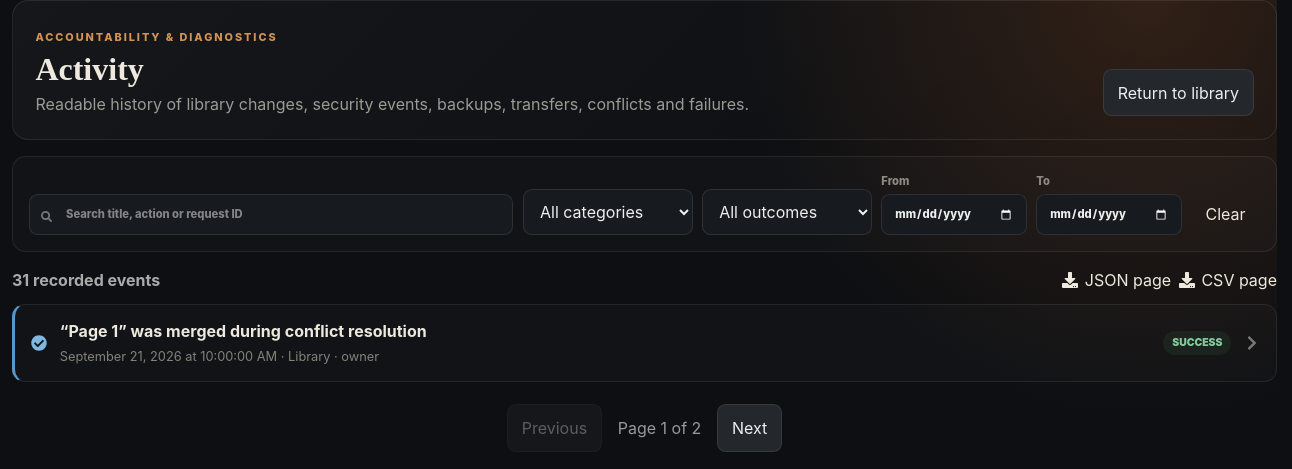
Test: requests the next activity page and returns to the top of the timeline
Expected: the text "“Page 1” was merged during conflict resolution" is shown, left=60, top=321, right=427, bottom=341
Click the button "Next".
click(750, 428)  # box left=717, top=404, right=782, bottom=452
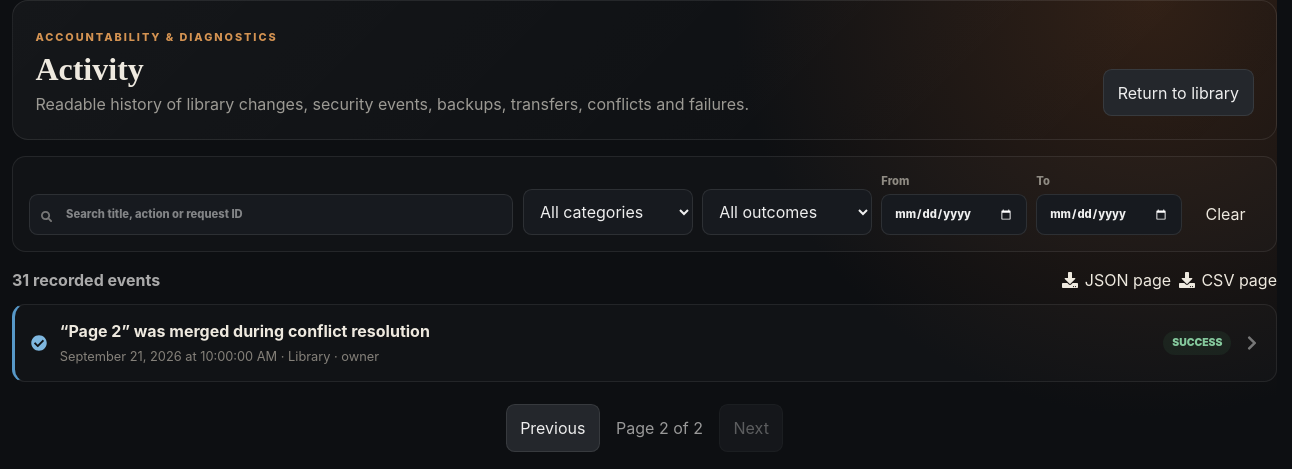
Now the text "“Page 2” was merged during conflict resolution" is shown, box left=60, top=321, right=430, bottom=341
